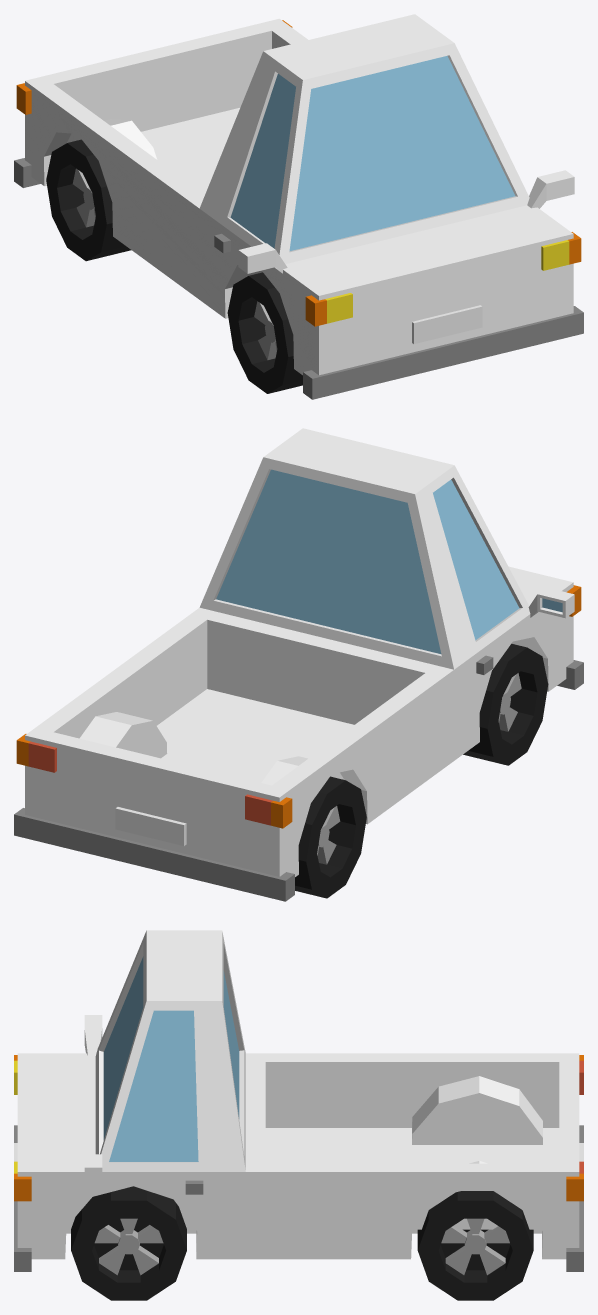
The model's file is car-lowpoly-6.fbx.
3 views of the same model, one above another, from view 1: azimuth 30°, elevation 25°; view 2: azimuth 150°, elevation 25°; view 3: azimuth 270°, elevation 25° (orthographic). The views are drawn at different scales.
Visible parts, largest first — view 1: car-lowpoly-6; view 2: car-lowpoly-6; view 3: car-lowpoly-6.
Part boxes in pixels (x1=…): car-lowpoly-6: x1=14, y1=14, x2=583, y2=399; car-lowpoly-6: x1=14, y1=428, x2=583, y2=901; car-lowpoly-6: x1=14, y1=930, x2=583, y2=1300.
Bounding box in the file's own units: 283 × 237 × 446.
